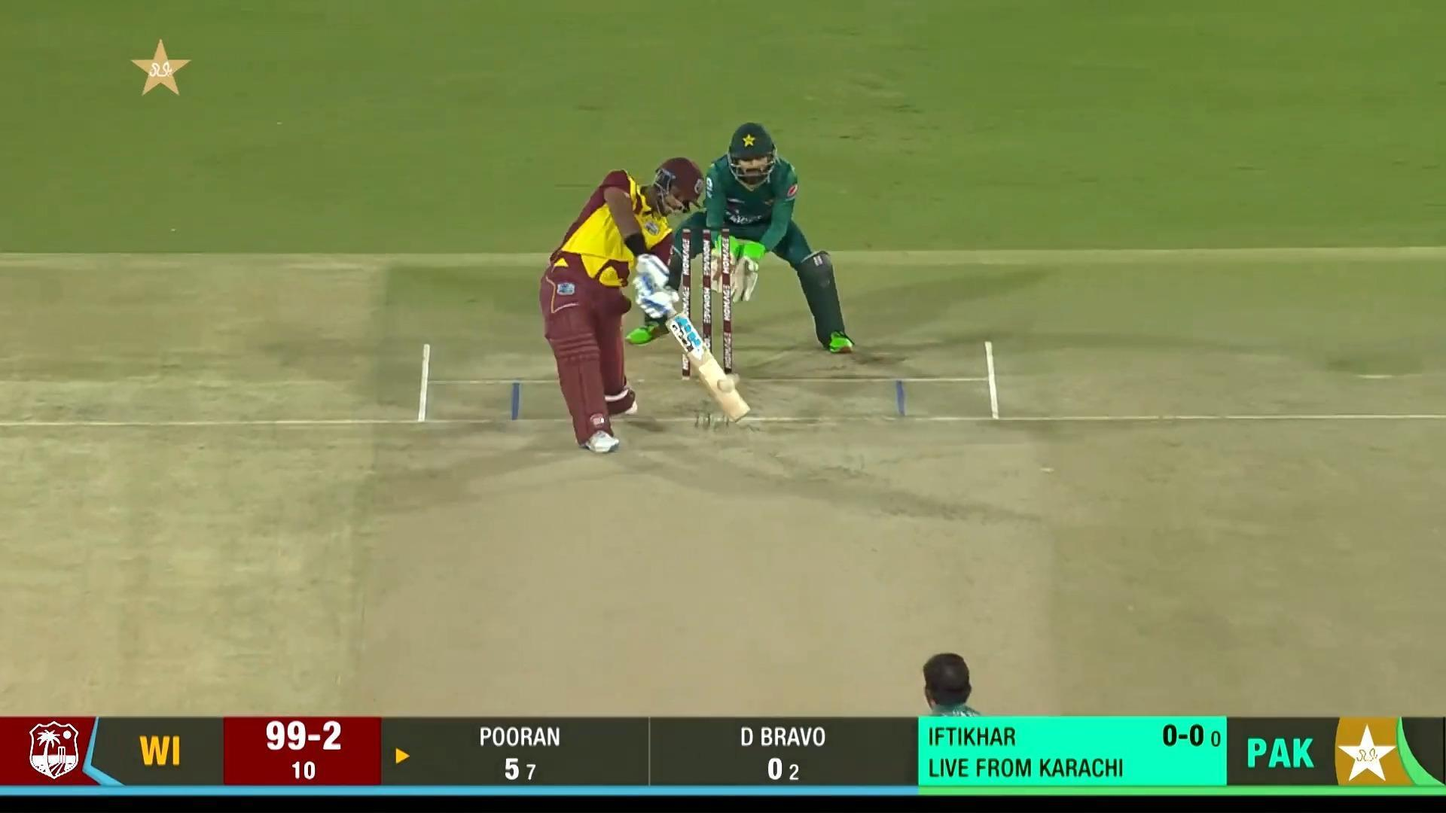BM 1: (540, 157, 752, 454)
BO: (892, 652, 1025, 813)
